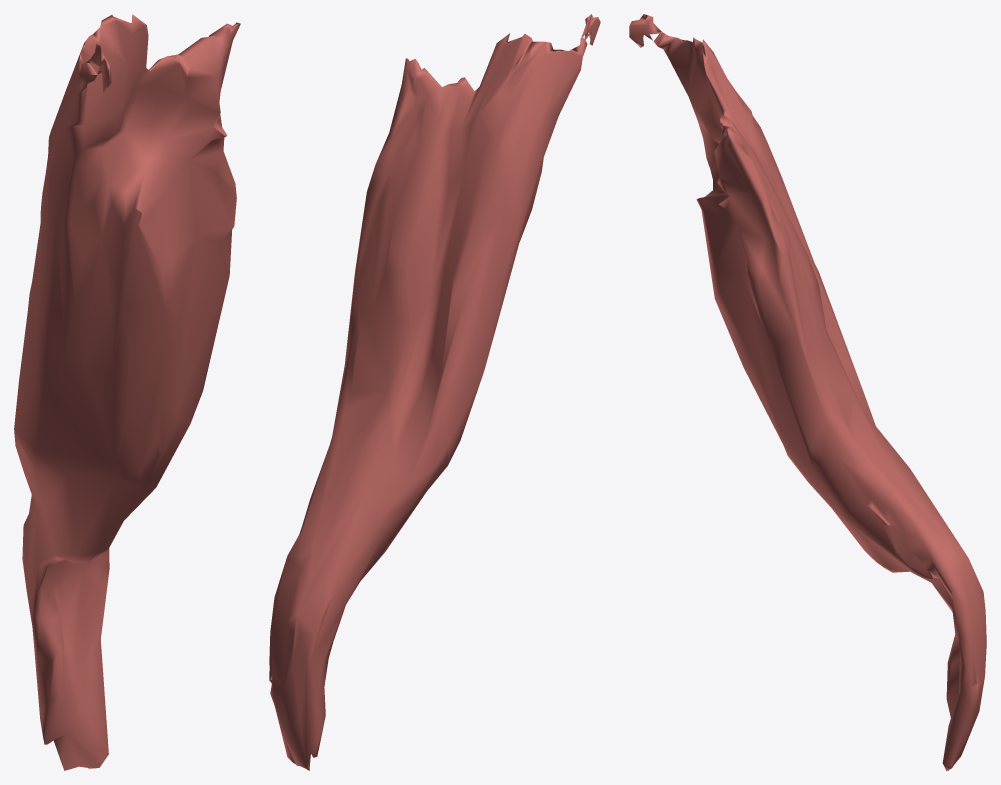
The picture shows the model from 3 angles, left to right: view 1: azimuth 30°, elevation 25°; view 2: azimuth 150°, elevation 25°; view 3: azimuth 270°, elevation 25°; orthographic projection. The views are drawn at different scales.
Parts seen in each view (by area): view 1: 左侧踇短屈肌外侧头; view 2: 左侧踇短屈肌外侧头; view 3: 左侧踇短屈肌外侧头.
Part boxes in pixels (<box>): 左侧踇短屈肌外侧头: <box>14,14,240,770</box>; 左侧踇短屈肌外侧头: <box>269,14,600,770</box>; 左侧踇短屈肌外侧头: <box>629,14,986,770</box>.
Bounding box in the file's own units: 0.0308 × 0.1198 × 0.0567.
